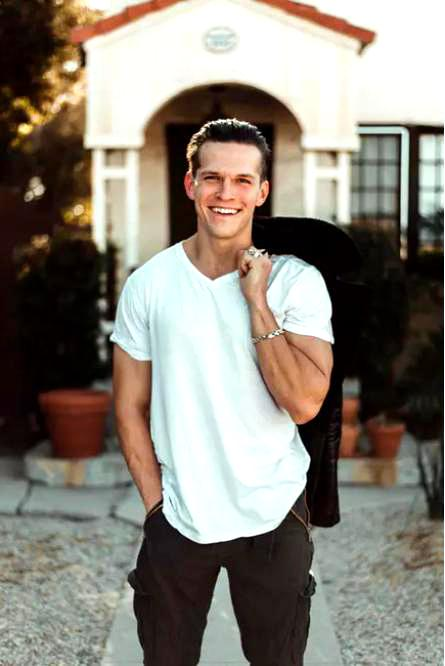face: (196, 142, 257, 234)
